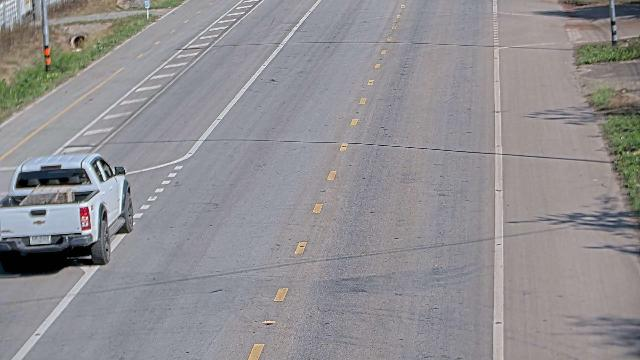pickup-truck: (0, 152, 134, 267)
